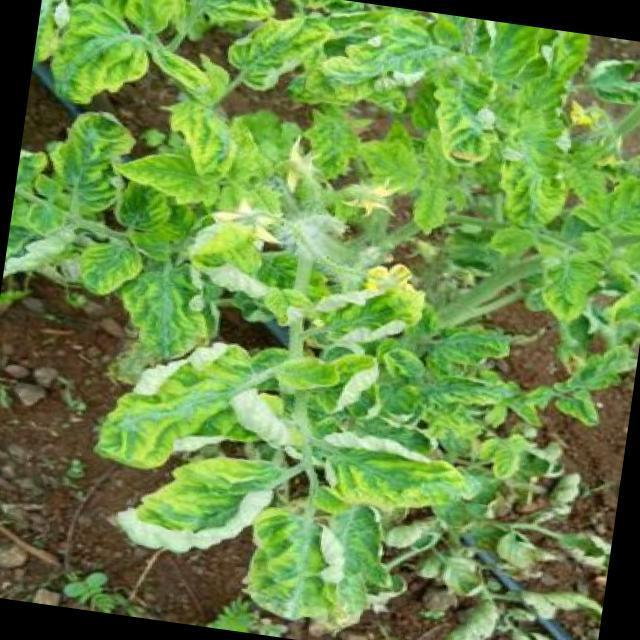Yellow Curl Virus: (83, 316, 263, 482), (108, 438, 288, 577), (322, 16, 482, 117), (317, 430, 493, 519), (245, 511, 348, 624), (44, 7, 153, 112), (40, 98, 132, 220), (223, 2, 329, 102), (526, 240, 614, 330), (488, 146, 578, 230), (121, 150, 231, 210), (72, 226, 148, 303)
